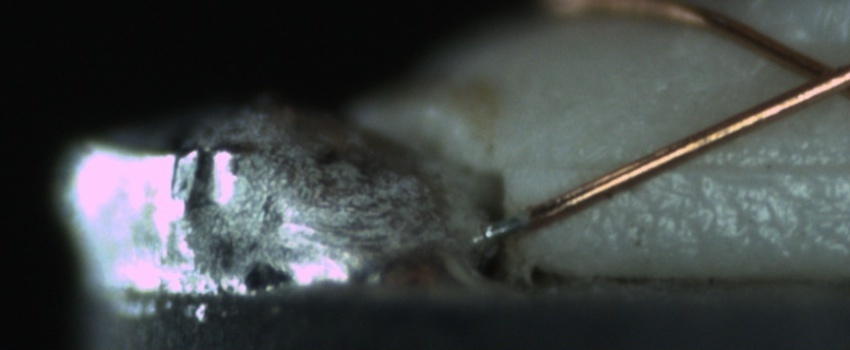CL: (774, 42, 850, 108)
DL: (529, 135, 849, 194)
TS: (473, 211, 529, 247)
